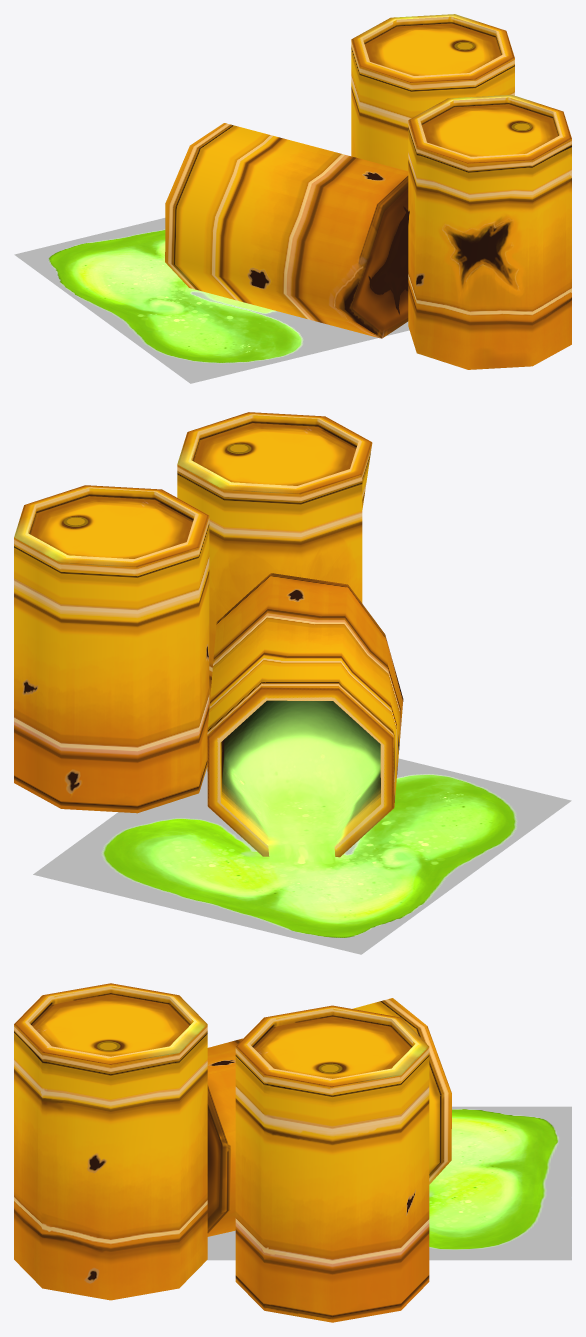
Rendered from toxic_barrel.glb.
The picture shows the model from 3 angles, top to bottom: view 1: azimuth 30°, elevation 25°; view 2: azimuth 150°, elevation 25°; view 3: azimuth 270°, elevation 25°; orthographic projection. The views are drawn at different scales.
Parts seen in each view (by area): view 1: Barrel_1_Toxic_Barrel_0; view 2: Barrel_1_Toxic_Barrel_0; view 3: Barrel_1_Toxic_Barrel_0.
Boxes of the visible parts, bbox=[...] form: Barrel_1_Toxic_Barrel_0: bbox=[14, 14, 571, 383]; Barrel_1_Toxic_Barrel_0: bbox=[14, 412, 571, 954]; Barrel_1_Toxic_Barrel_0: bbox=[14, 983, 571, 1322].
Size of the model in its own units: 1.52 by 0.7805 by 1.66.
Materials: 1 (1 with a texture image).
